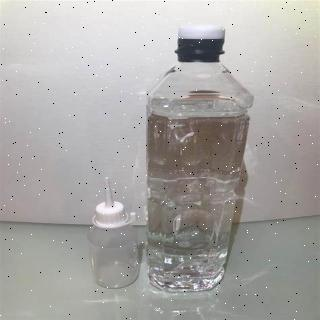Plastic-bottle: (122, 15, 270, 314)
